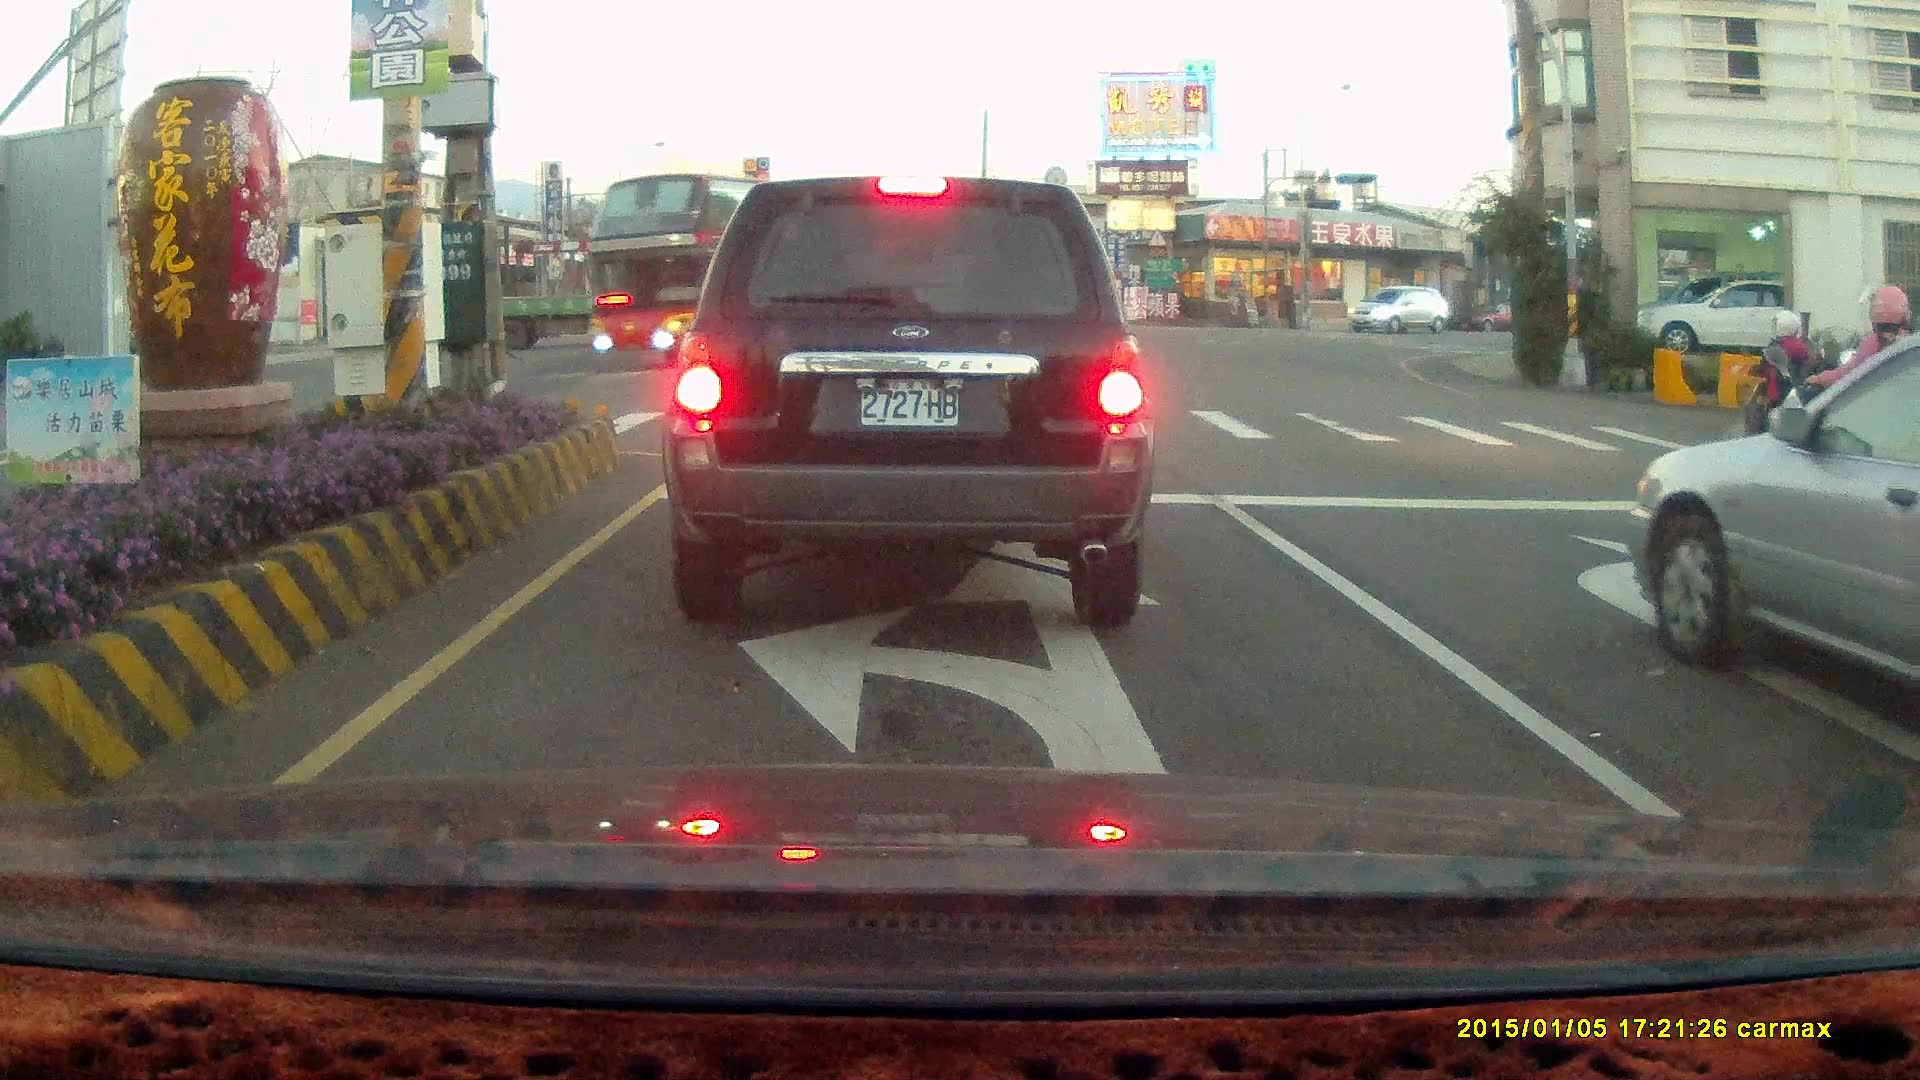rider: (1761, 280, 1920, 566), (1729, 308, 1826, 467)
vehicle: (659, 173, 1155, 630), (1613, 332, 1920, 733), (1630, 335, 1920, 705), (503, 254, 696, 347), (1629, 275, 1836, 357), (1642, 275, 1784, 356), (1896, 493, 1920, 836), (1347, 286, 1453, 340)
